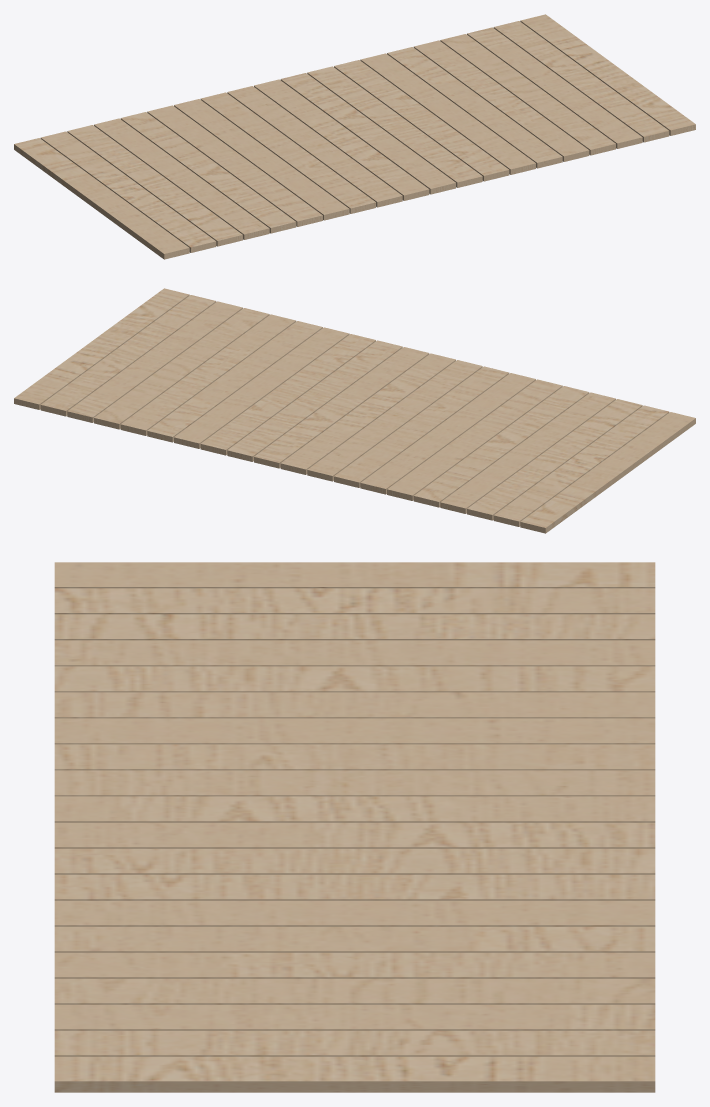
The model's file is FK-DXF.glb.
The picture shows the model from 3 angles, top to bottom: view 1: azimuth 30°, elevation 25°; view 2: azimuth 150°, elevation 25°; view 3: azimuth 270°, elevation 25°; orthographic projection. The views are drawn at different scales.
Parts seen in each view (by area): view 1: DT_full_floor_kit; view 2: DT_full_floor_kit; view 3: DT_full_floor_kit.
Boxes of the visible parts, bbox=[...] form: DT_full_floor_kit: bbox=[14, 14, 695, 259]; DT_full_floor_kit: bbox=[14, 288, 695, 533]; DT_full_floor_kit: bbox=[54, 562, 655, 1092].
Size of the model in its own units: 3.02 by 0.0305 by 1.48.
1 material, 1 textured.
